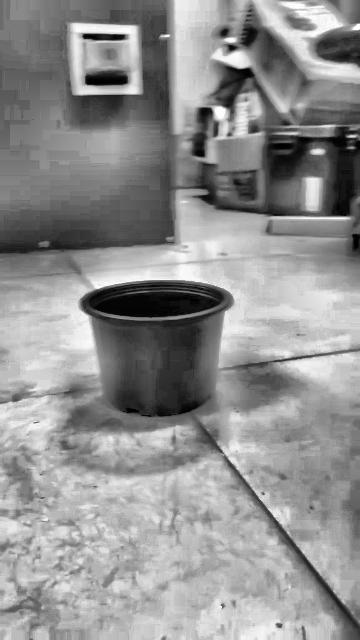pot: (82, 280, 231, 417)
